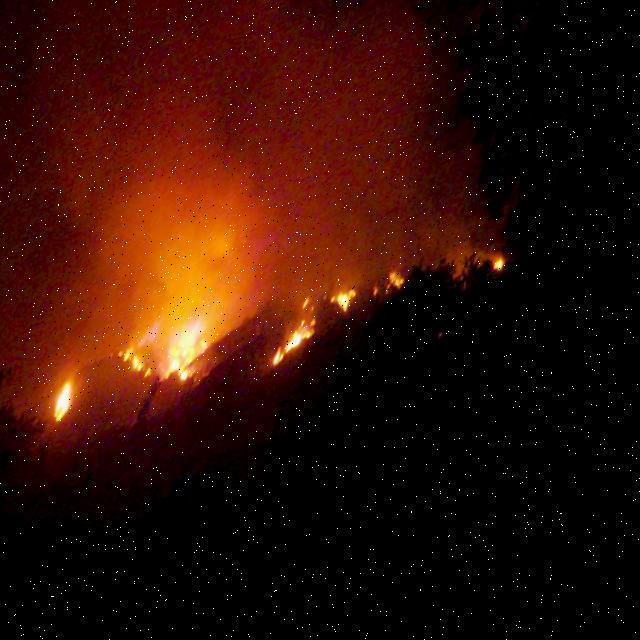Fire: (280, 300, 375, 408), (130, 324, 244, 410), (57, 384, 105, 434), (391, 284, 423, 322), (504, 277, 528, 302)
